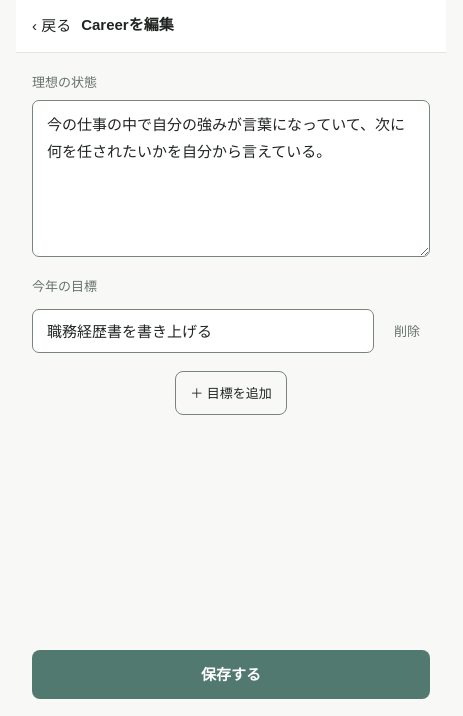
Test: S-58 › 残り目標が0件になると「保存する」が無効になる
Step 1. Click the button with class "s58__remove" → x=407, y=331, box [384,309,430,353]
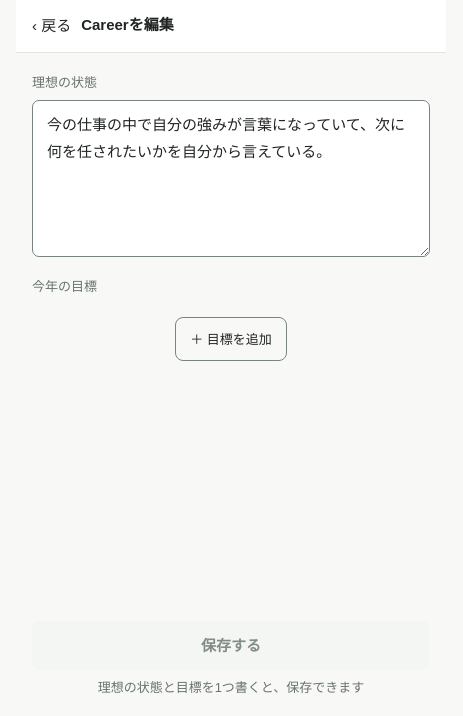
Expected: the button "保存する" is shown, [32,621,430,670]
Result: the text "理想の状態と目標を1つ書くと、保存できます" is shown at [98,680,364,695]
